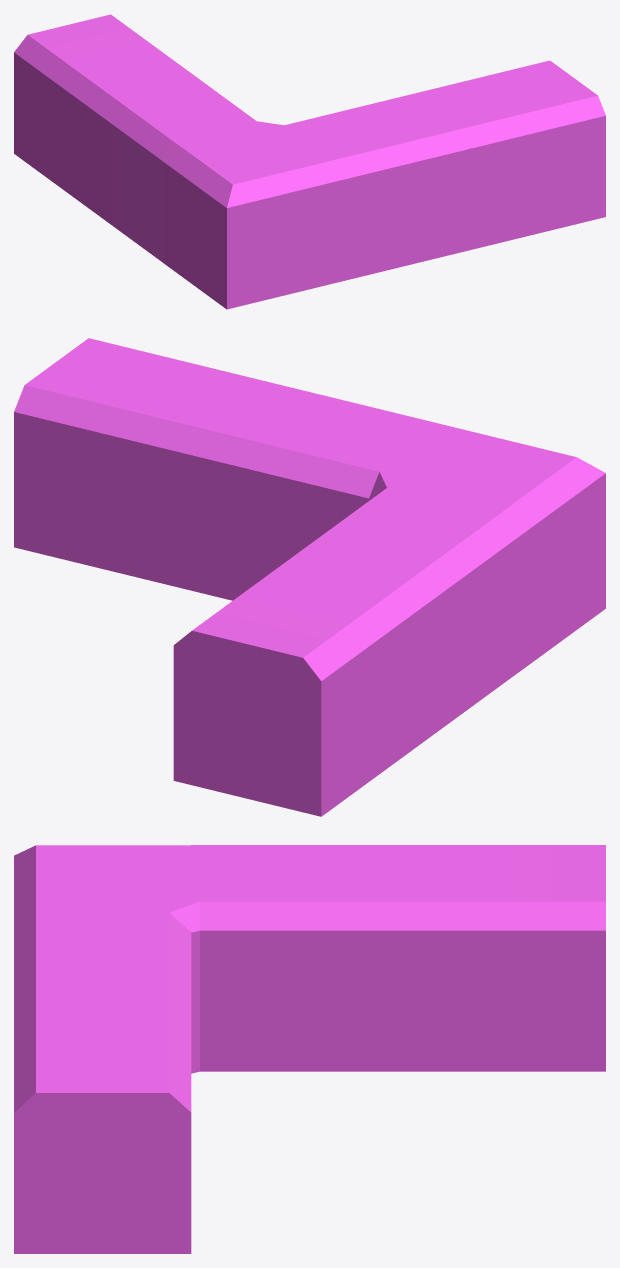
The model's file is Hedge 2.fbx.
3 renders of one model, top to bottom at view 1: azimuth 30°, elevation 25°; view 2: azimuth 150°, elevation 25°; view 3: azimuth 270°, elevation 25°, orthographic. The views are drawn at different scales.
Visible parts, largest first — view 1: Hedge 2; view 2: Hedge 2; view 3: Hedge 2.
Boxes of the visible parts, x1,y1,x2,y2 form: Hedge 2: (14,14,605,309); Hedge 2: (14,338,605,816); Hedge 2: (14,845,605,1253).
Bounding box in the file's own units: 343 × 100 × 334.
1 material, 1 textured.
